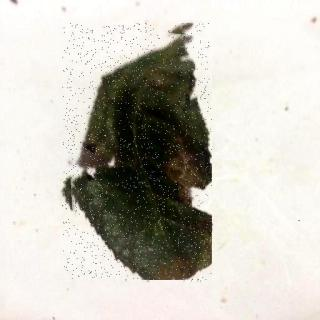Red Leaf Spot: (63, 25, 213, 283)
